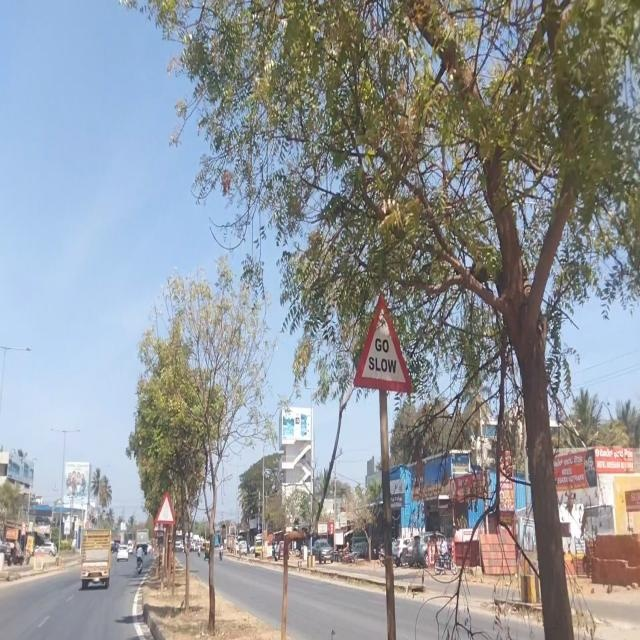bien_nguy_hiem: (354, 292, 411, 392), (155, 491, 175, 526)
